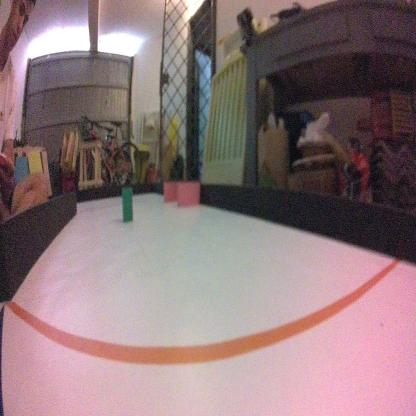magenta: (178, 178, 198, 210), (162, 180, 183, 204)
